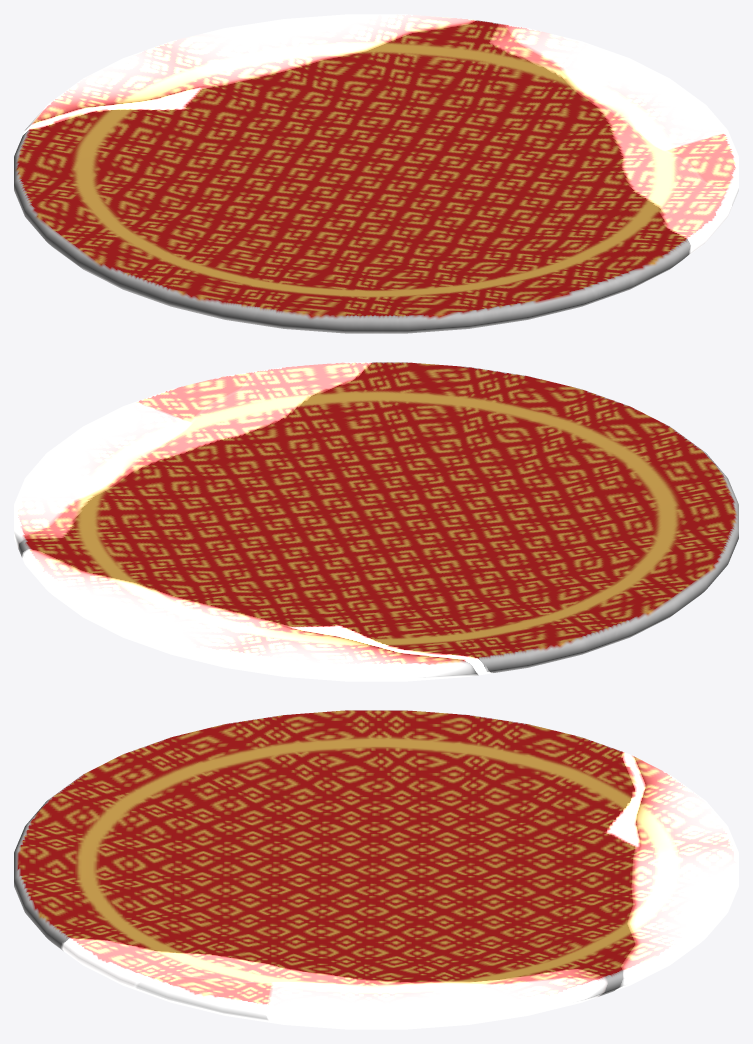
The model's file is SM_Plate_01.fbx.
The picture shows the model from 3 angles, top to bottom: view 1: azimuth 30°, elevation 25°; view 2: azimuth 150°, elevation 25°; view 3: azimuth 270°, elevation 25°; orthographic projection.
Parts seen in each view (by area): view 1: SM_Plate_01_LOD0; view 2: SM_Plate_01_LOD0; view 3: SM_Plate_01_LOD0.
Boxes of the visible parts, x1=… form: SM_Plate_01_LOD0: x1=14, y1=14, x2=738, y2=333; SM_Plate_01_LOD0: x1=14, y1=362, x2=738, y2=681; SM_Plate_01_LOD0: x1=14, y1=710, x2=738, y2=1029.
Size of the model in its own units: 18.78 by 18.78 by 1.81.
